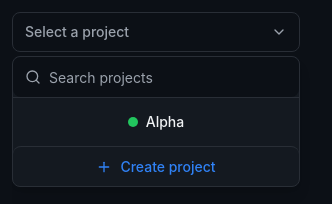
Test case: ProjectPicker – open state › shows "No projects found" when search has no match
Expected: the option "Alpha" is shown, [13, 102, 299, 142]
Type "zzz" into the field labelled "Search projects" at (156, 77), box [13, 57, 299, 97]
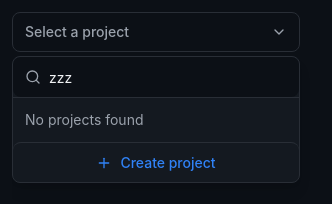
Expected: the text "No projects found" is shown, [25, 111, 144, 128]
